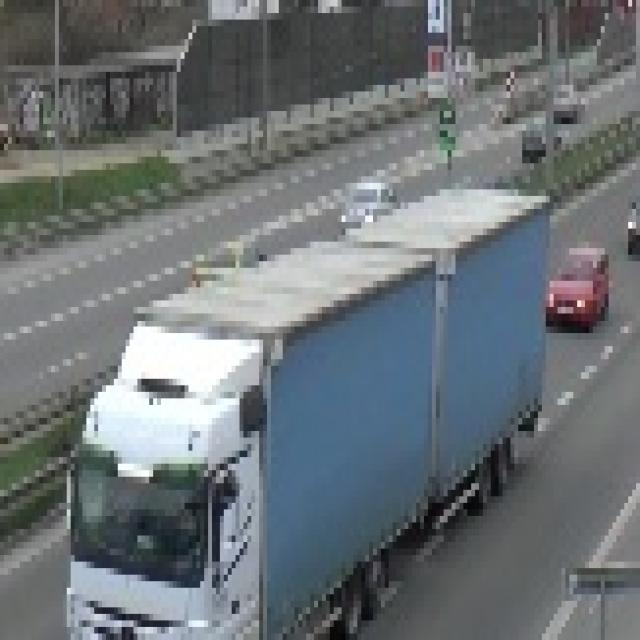SUV: (544, 248, 612, 334), (626, 182, 640, 258)
TRUCK: (61, 190, 541, 640)
